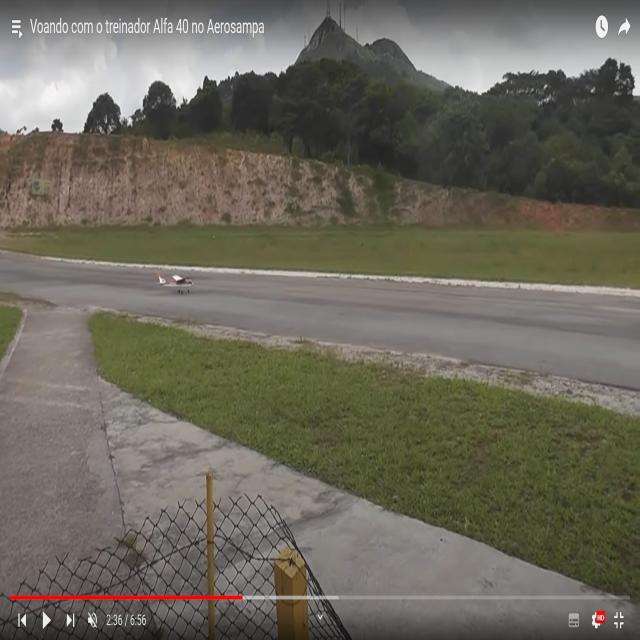iha: (157, 273, 194, 294)
